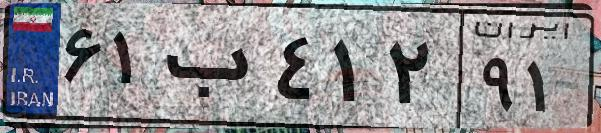1: (330, 28, 385, 110), (525, 38, 570, 115), (110, 28, 158, 98)
2: (385, 28, 445, 110)
4: (270, 28, 330, 110)
6: (57, 26, 110, 100)
9: (475, 38, 525, 113)
ب: (158, 20, 270, 120)
